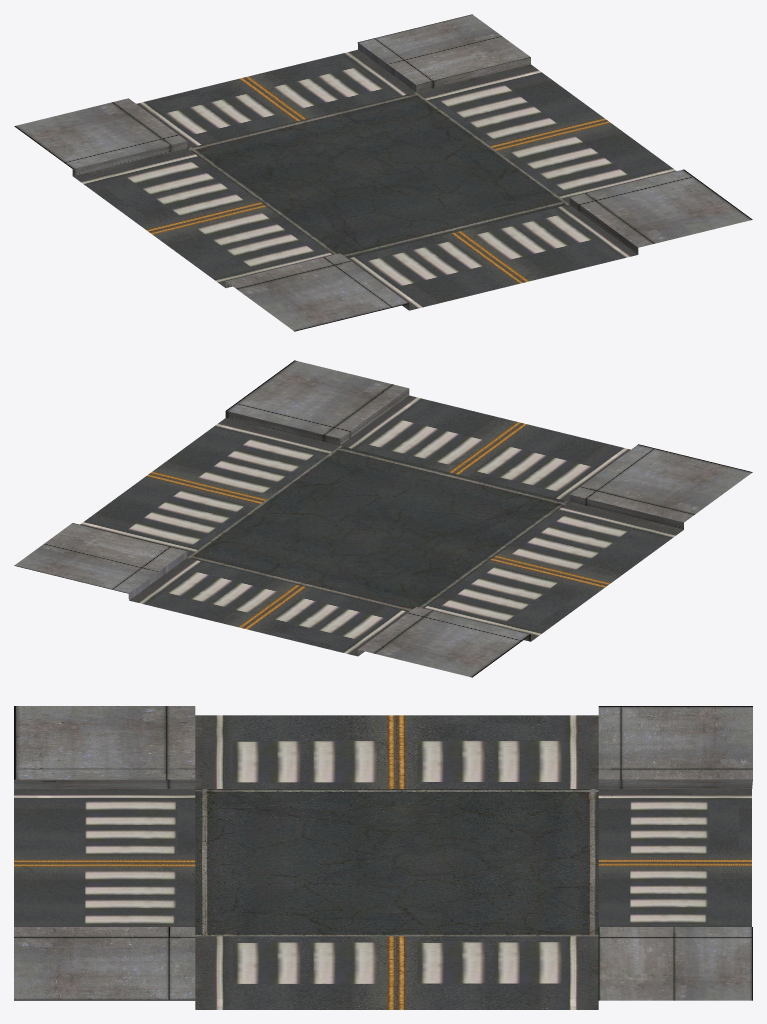
Rendered from square3.glb.
3 views of the same model, one above another, from view 1: azimuth 30°, elevation 25°; view 2: azimuth 150°, elevation 25°; view 3: azimuth 270°, elevation 25° (orthographic). The views are drawn at different scales.
Visible parts, largest first — view 1: Object_5.001, Object_4.001, Object_6.001; view 2: Object_5.001, Object_4.001, Object_6.001; view 3: Object_5.001, Object_4.001, Object_6.001.
Boxes of the visible parts, box(x1,y1,x2,y2) form: Object_5.001: box(73, 49, 676, 310); Object_4.001: box(187, 92, 568, 258); Object_6.001: box(14, 14, 752, 331); Object_5.001: box(80, 395, 683, 656); Object_4.001: box(187, 446, 568, 611); Object_6.001: box(14, 360, 752, 677); Object_5.001: box(14, 715, 751, 1009); Object_4.001: box(195, 789, 598, 936); Object_6.001: box(14, 706, 752, 1000).
Bounding box in the file's own units: 7.11 × 0.1054 × 7.54.
3 materials, 3 textured.
